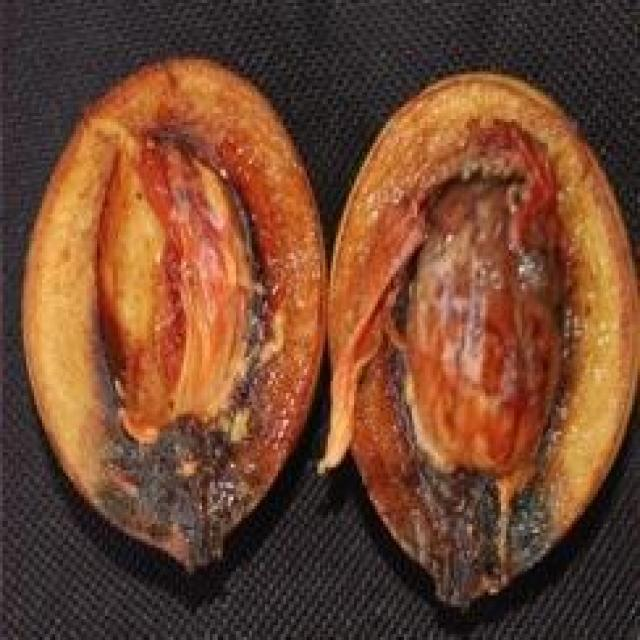damaged: (317, 74, 637, 613), (21, 54, 330, 583)
